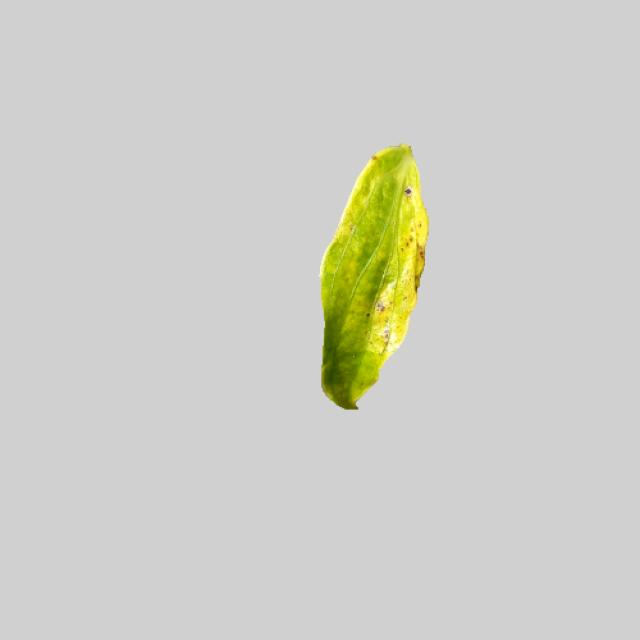yellow-mottle-virus: (314, 141, 430, 412)
